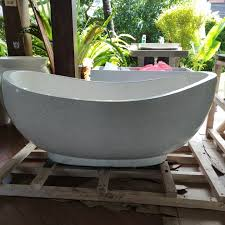bathub: (2, 64, 222, 172)
